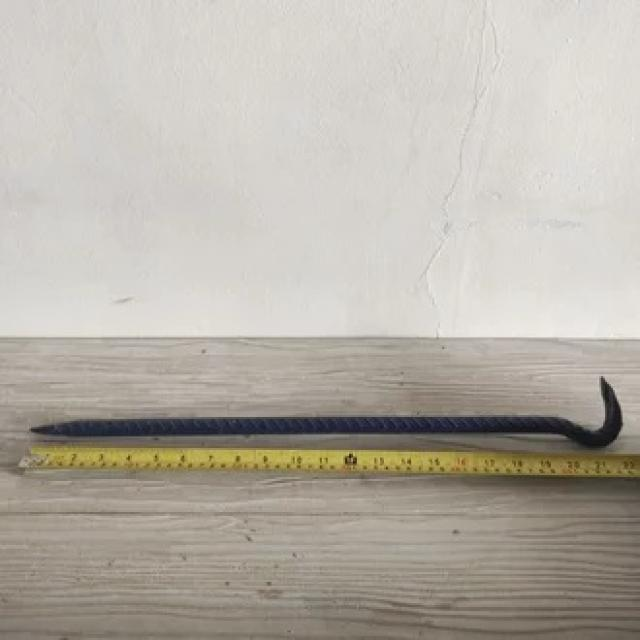Linggis: (26, 380, 626, 446)
